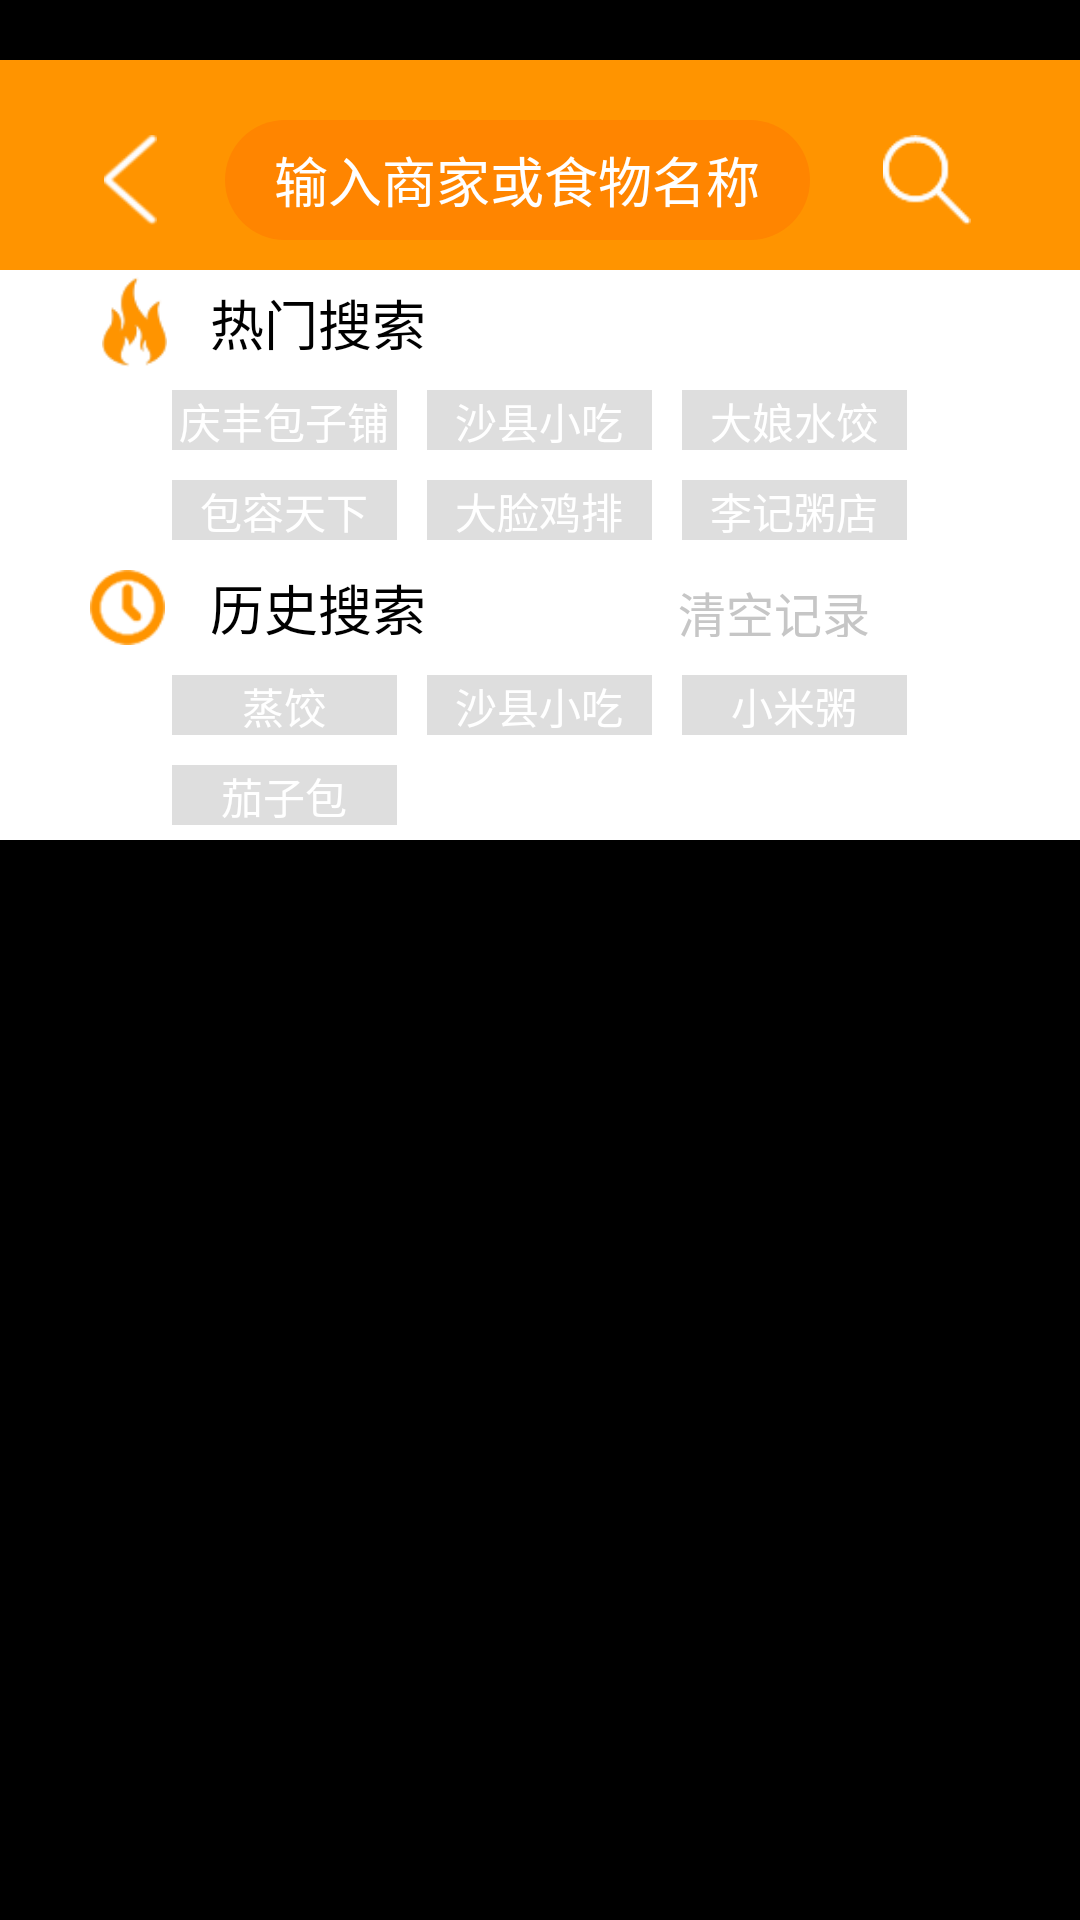

Icon bounding boxes for this 1080*1920 phone screenshot, format bbox(x1, y1, x2, y2):
back: bbox(104, 135, 157, 225)
hot search: bbox(102, 278, 167, 366)
lishisousuo: bbox(90, 570, 165, 645)
search: bbox(883, 135, 971, 225)
